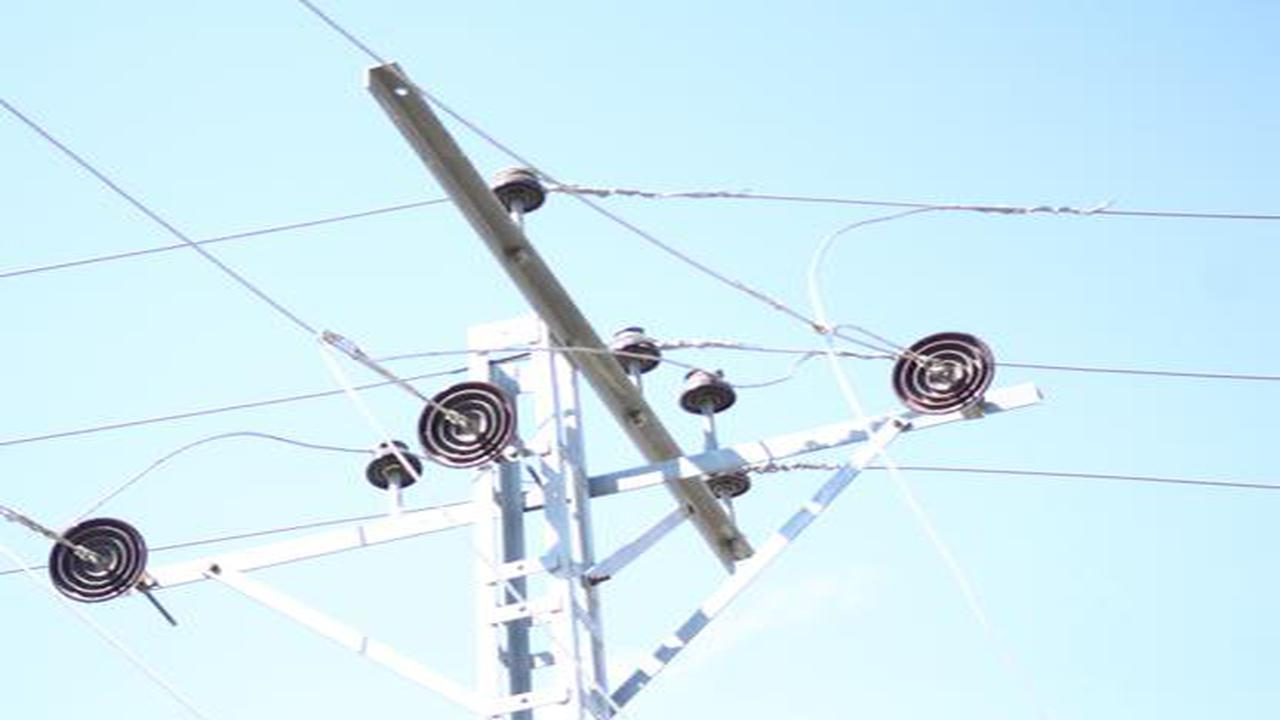insulator_disc: (890, 330, 1001, 415), (418, 372, 516, 468), (47, 517, 152, 605)
insulator_pin: (489, 158, 550, 216), (681, 362, 736, 421), (365, 436, 422, 492), (613, 325, 659, 378)
